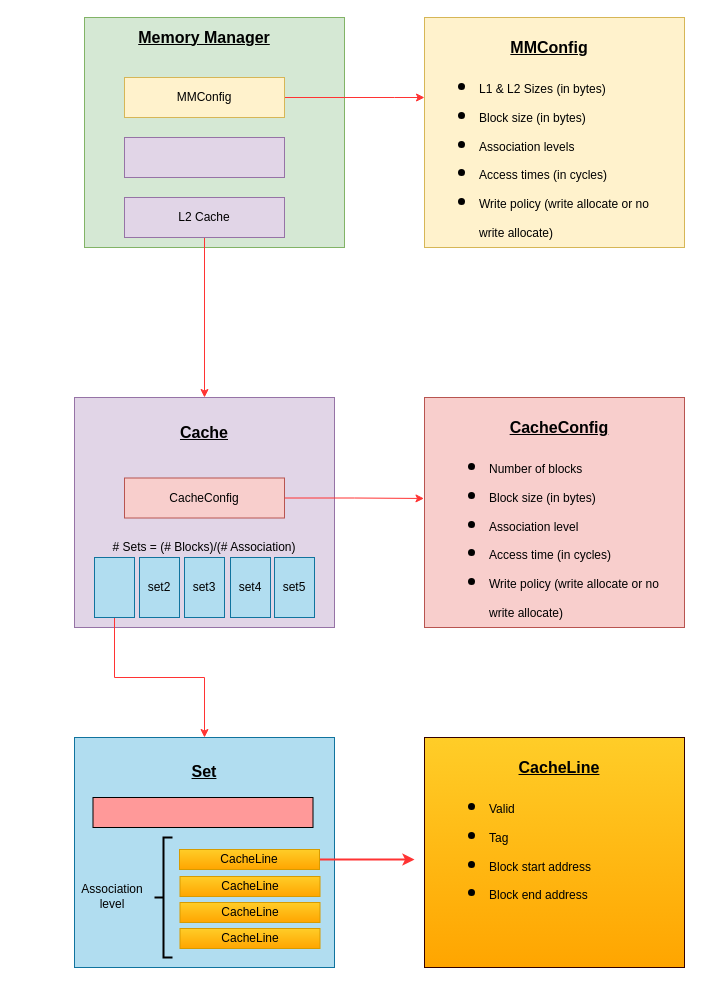
This 702x985 diagram has some shape labels left out. The centre of each missing label's shape, as x and y in pixels:
L1 Cache: [204,157]
LRU Ranking: [202,812]
set1: [114,587]
